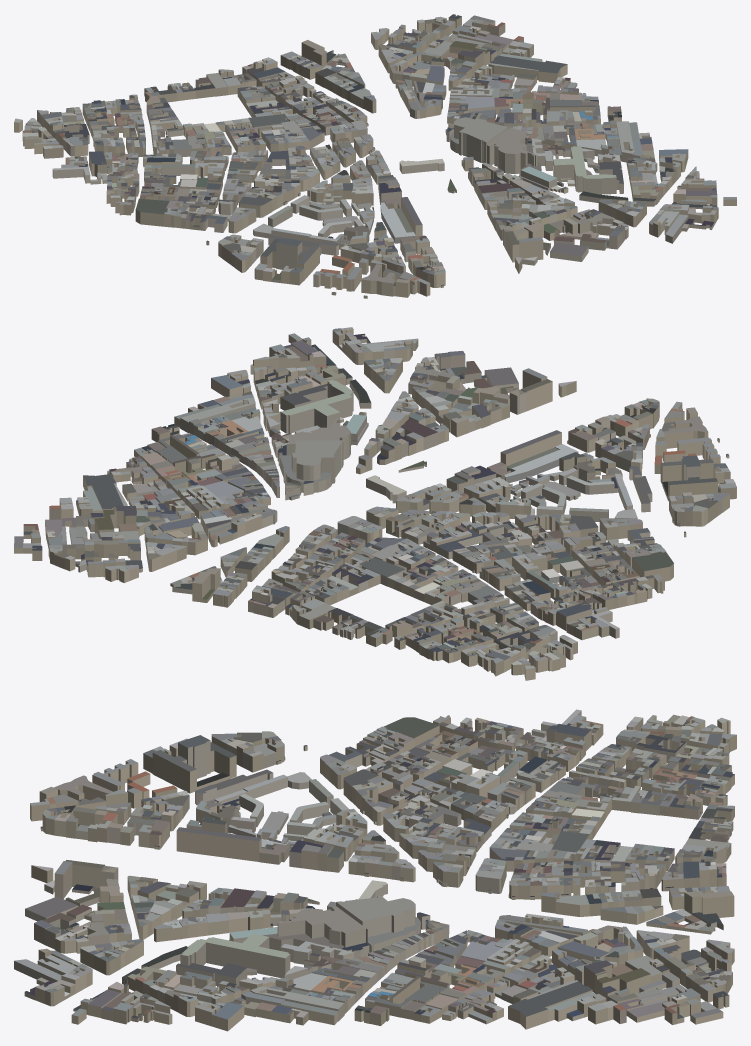
The picture shows the model from 3 angles, top to bottom: view 1: azimuth 30°, elevation 25°; view 2: azimuth 150°, elevation 25°; view 3: azimuth 270°, elevation 25°; orthographic projection. The views are drawn at different scales.
Visible parts, largest first — view 1: tuile; view 2: tuile; view 3: tuile.
Boxes of the visible parts, bbox=[...] form: tuile: bbox=[14, 14, 736, 298]; tuile: bbox=[14, 327, 736, 680]; tuile: bbox=[14, 709, 736, 1031].
Bounding box in the file's own units: 1064 × 66.13 × 1049.
